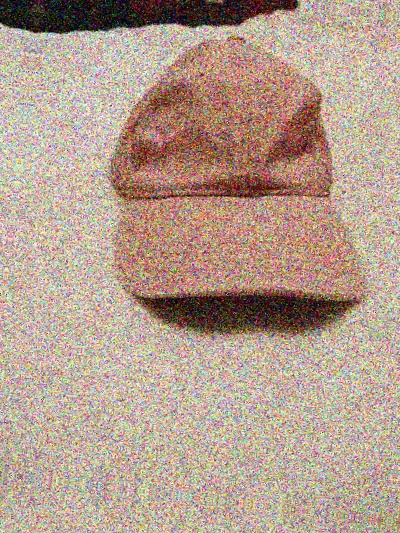Hat: (82, 26, 382, 342)
